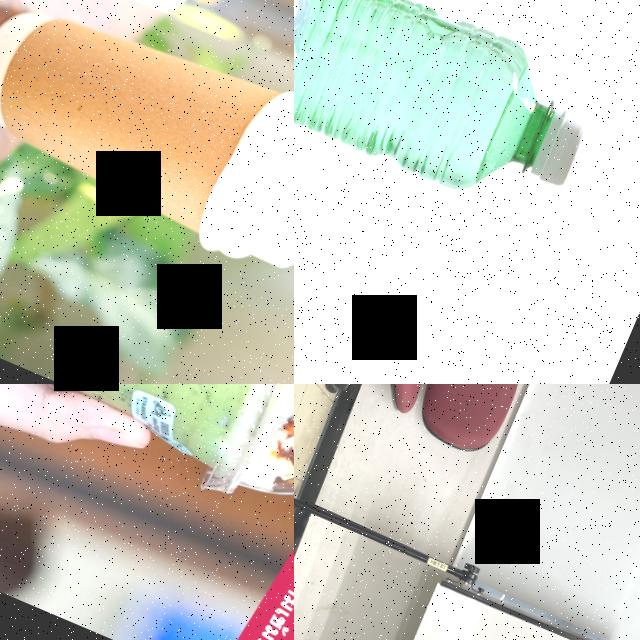bottle: (294, 0, 609, 232), (294, 0, 379, 337)
cup: (0, 0, 294, 291), (0, 384, 294, 551)
